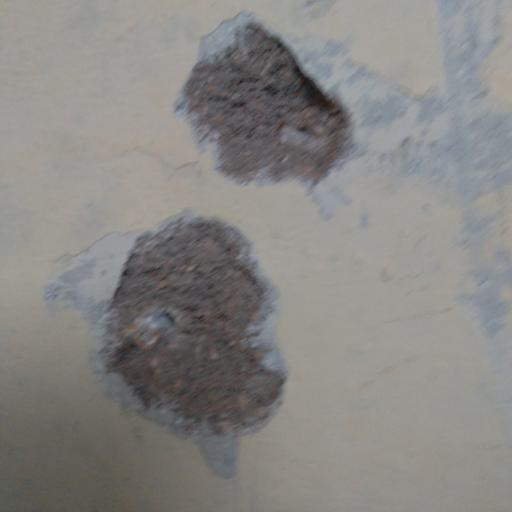spalling: (37, 202, 296, 486), (169, 0, 374, 206)
